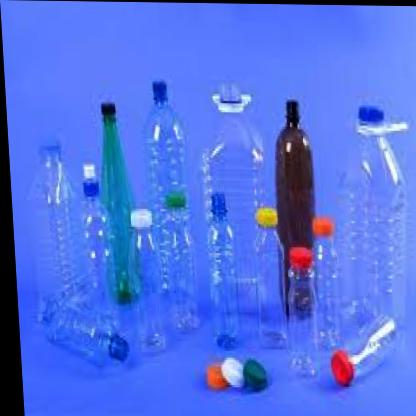Plastic: (330, 96, 416, 310), (194, 85, 250, 293), (22, 138, 82, 286), (34, 282, 128, 368), (92, 98, 135, 280), (262, 88, 310, 240), (318, 310, 404, 386), (154, 188, 196, 336), (134, 71, 186, 190), (123, 207, 166, 348), (198, 190, 237, 344), (242, 209, 286, 343), (277, 236, 318, 372), (305, 212, 346, 340), (76, 164, 108, 286)
